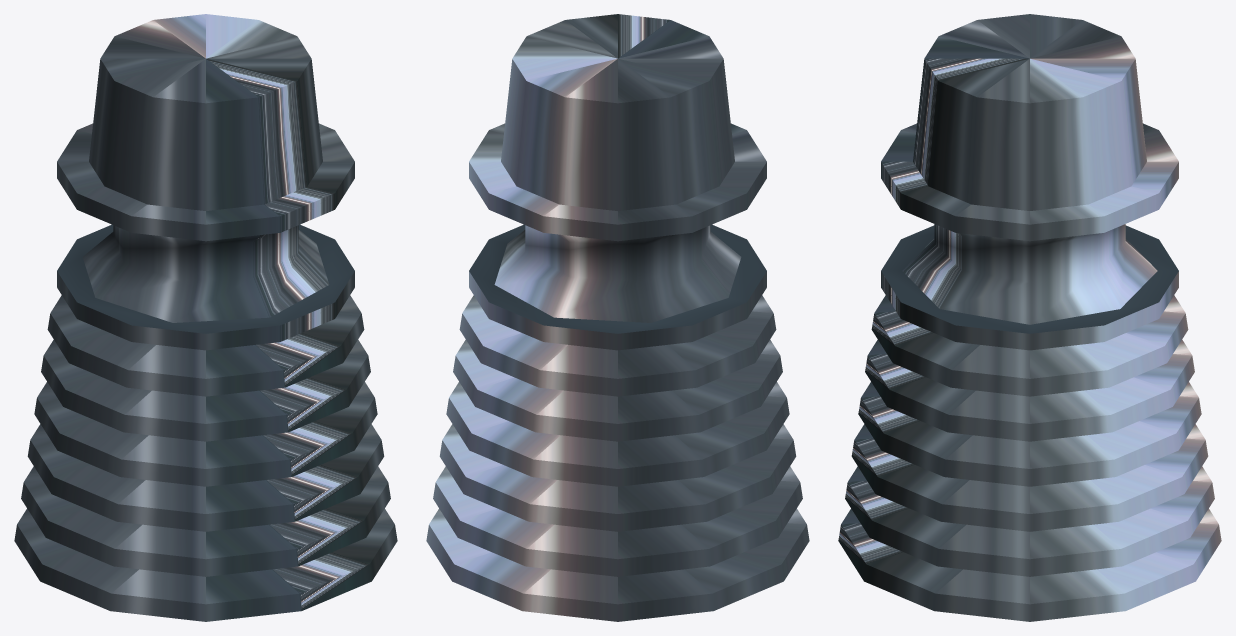
Rendered from PegPlasticT27.fbx.
3 views of the same model, side by side, from view 1: azimuth 30°, elevation 25°; view 2: azimuth 150°, elevation 25°; view 3: azimuth 270°, elevation 25° (orthographic).
Parts seen in each view (by area): view 1: PegPlasticT27; view 2: PegPlasticT27; view 3: PegPlasticT27.
Boxes of the visible parts, x1,y1,x2,y2 form: PegPlasticT27: [14, 14, 397, 621]; PegPlasticT27: [426, 14, 809, 621]; PegPlasticT27: [838, 14, 1221, 621].
Size of the model in its own units: 1.85 by 2.56 by 1.85.
1 material, 1 textured.
